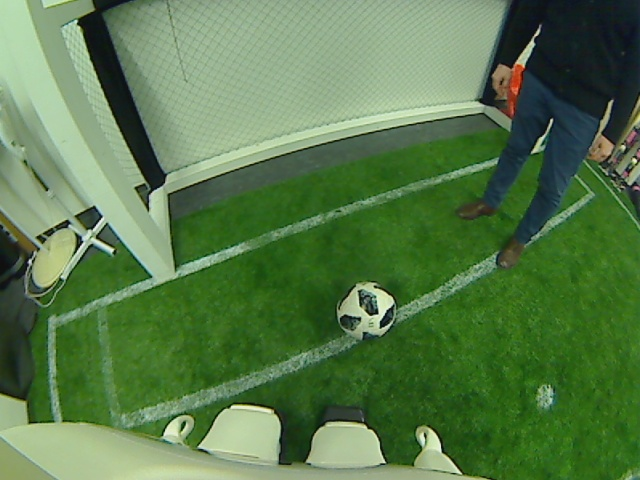ball: (334, 278, 396, 342)
